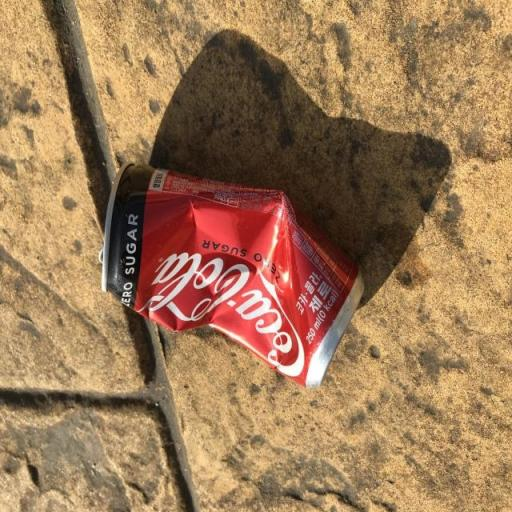metal: (78, 126, 388, 409)
